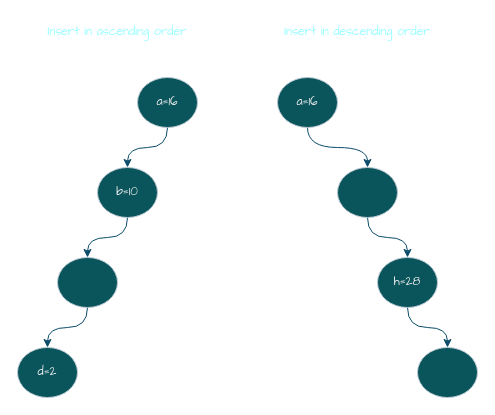
This 495x415 diagram has some shape labels left out. Each missing label, with the centre of its shape:
c=5: point (87, 282)
e=20: point (367, 192)
j=33: point (447, 372)
